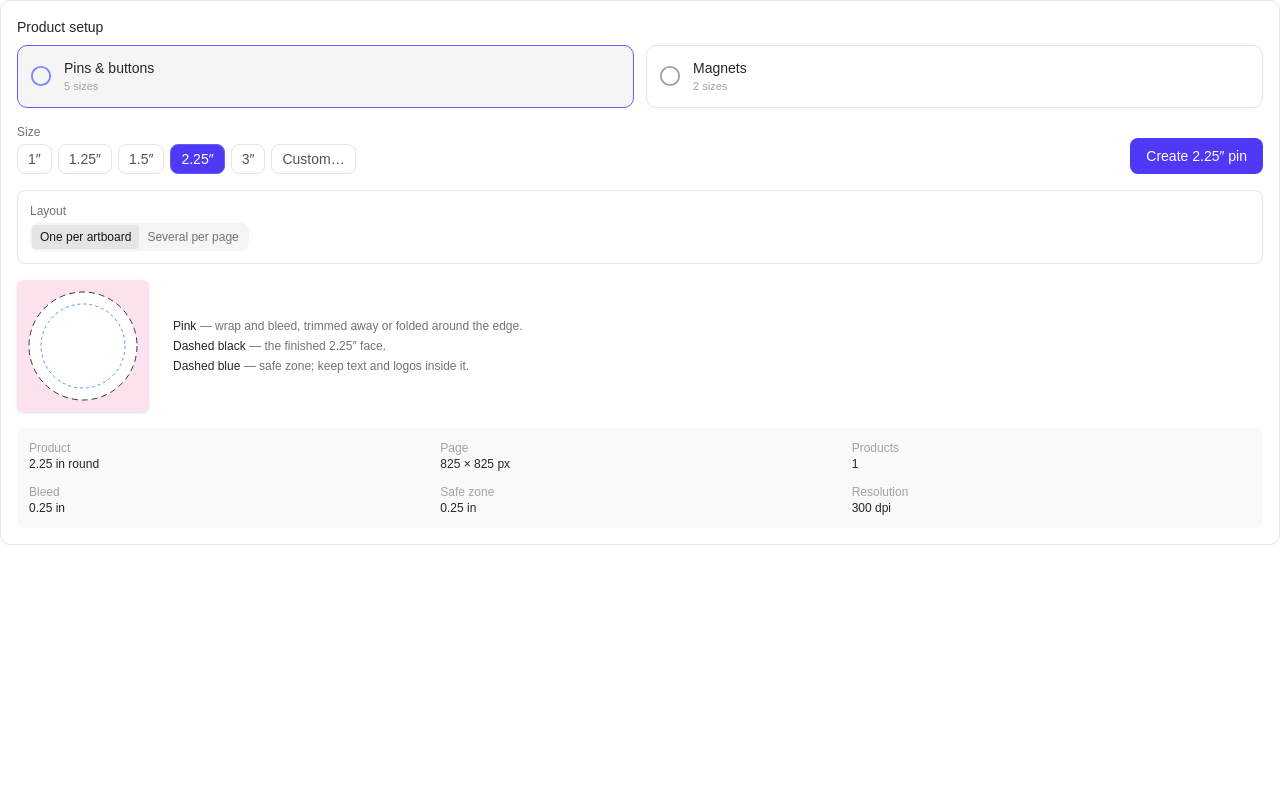
Scenario: ProductSetupPanel — several per page (PROD-001) › fills the sheet by default and says how many fit where
Click the button "Several per page". click: (193, 236)
box: x1=139 y1=224 x2=247 y2=248
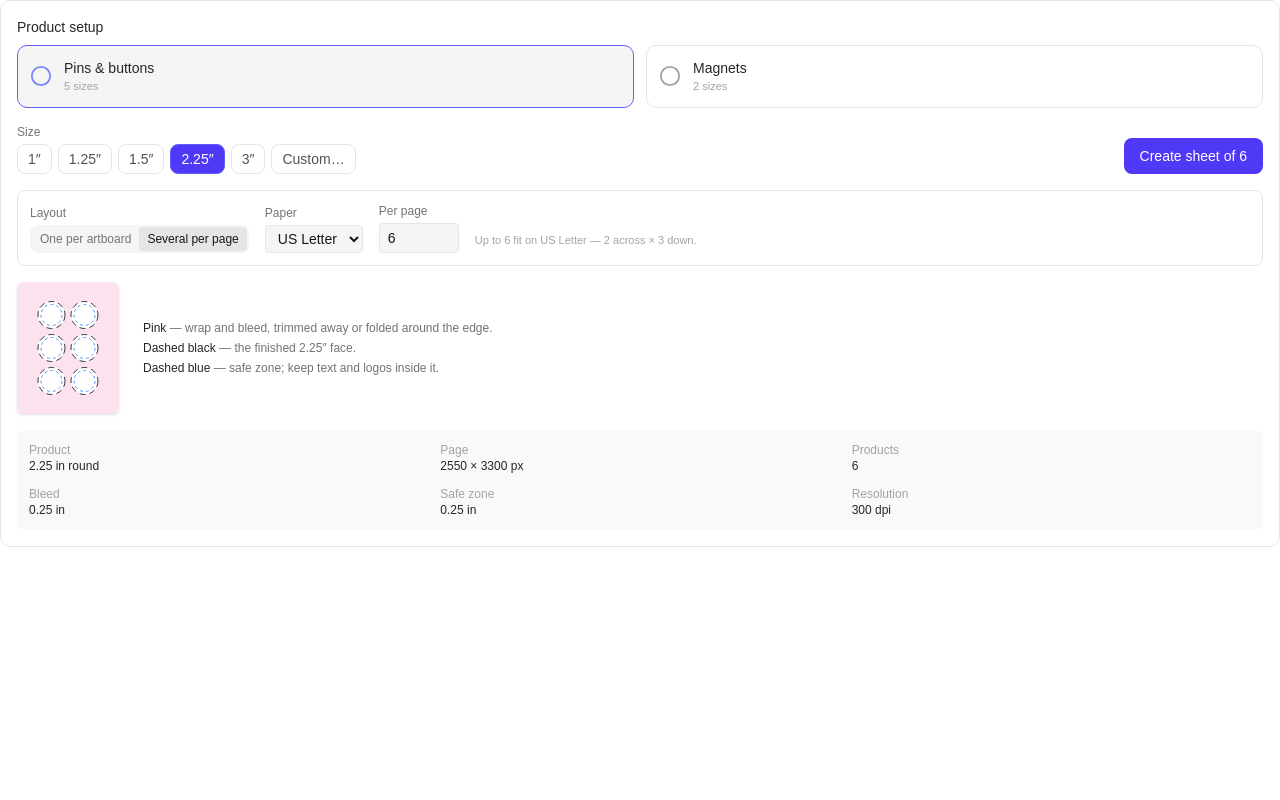
Now the number field labelled "Per page" holds "6", box x1=379 y1=222 x2=459 y2=252
Now the text "Up to 6 fit on US Letter — 2 across × 3 down." is shown, box x1=475 y1=234 x2=696 y2=246
Now the text "2550 × 3300 px" is shown, box x1=440 y1=458 x2=523 y2=472
